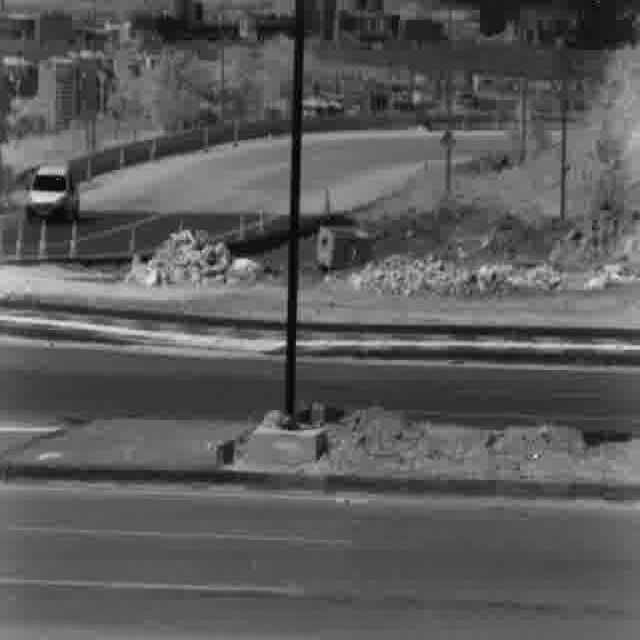Car: (25, 162, 80, 226)
